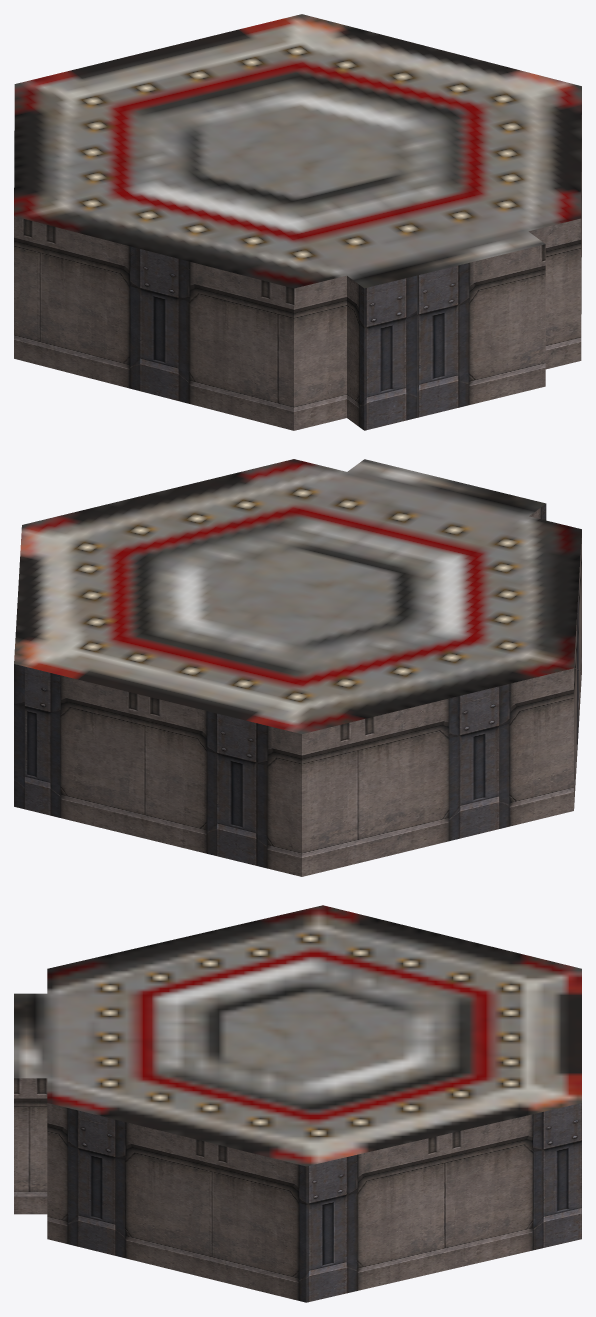
The model's file is bsealed_hard_08.glb.
3 views of the same model, one above another, from view 1: azimuth 30°, elevation 25°; view 2: azimuth 150°, elevation 25°; view 3: azimuth 270°, elevation 25° (orthographic). The views are drawn at different scales.
Visible parts, largest first — view 1: buildings/saxarba/bsealed_hard/bsealed_hard_08; view 2: buildings/saxarba/bsealed_hard/bsealed_hard_08; view 3: buildings/saxarba/bsealed_hard/bsealed_hard_08.
Part boxes in pixels (<box>): buildings/saxarba/bsealed_hard/bsealed_hard_08: <box>14,14,581,430</box>; buildings/saxarba/bsealed_hard/bsealed_hard_08: <box>14,459,581,876</box>; buildings/saxarba/bsealed_hard/bsealed_hard_08: <box>14,905,581,1302</box>.
Bounding box in the file's own units: 74 × 18 × 68.
